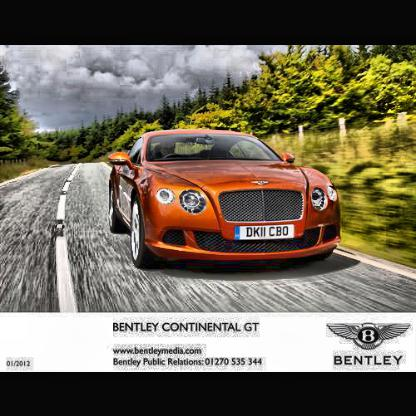Bentley Continental GT Coupe 2012: (108, 128, 345, 272)
